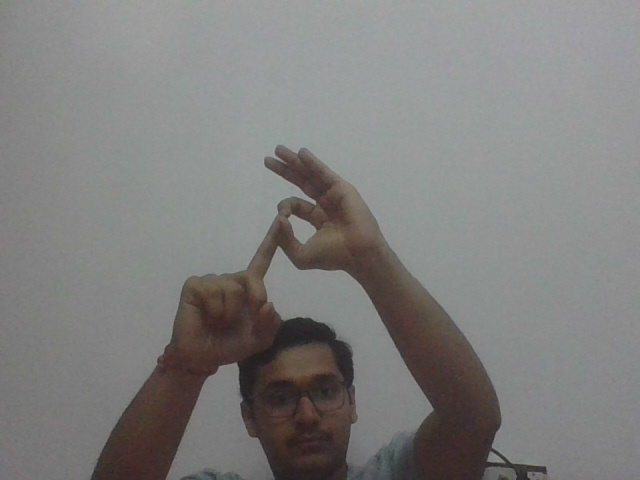Q: (177, 145, 366, 318)
